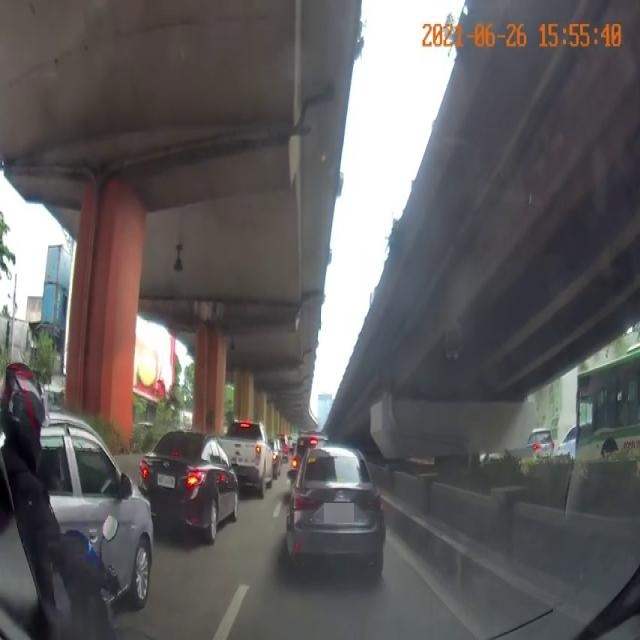bus: (572, 361, 640, 491)
car: (12, 413, 157, 599), (288, 439, 389, 587), (137, 434, 250, 540), (212, 408, 277, 495)
motorcycle: (0, 370, 132, 636)
